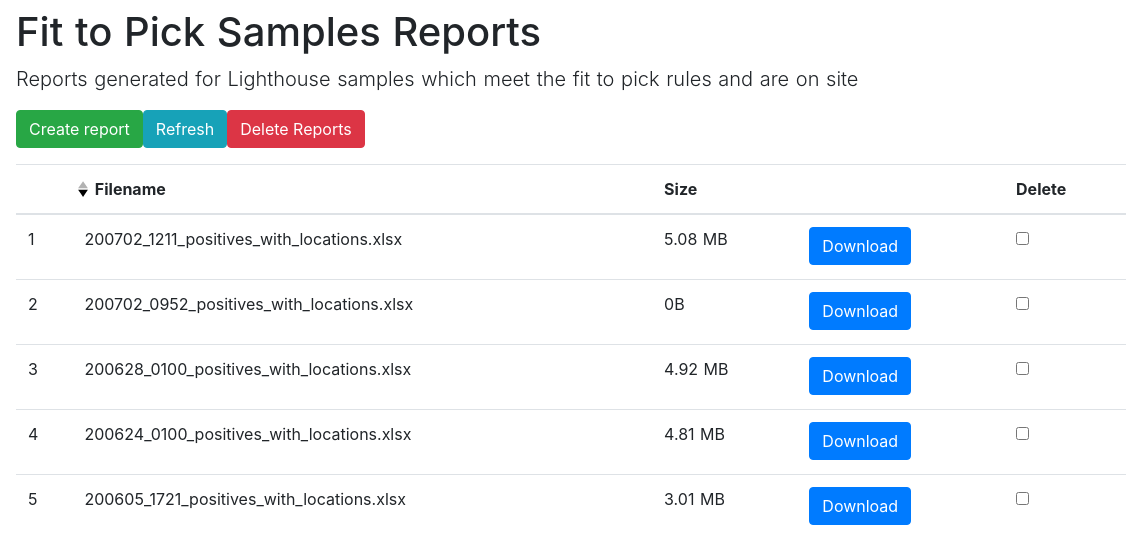
Test case: Index › #deleteReports › when the request is successful
Step 1. Click the checkbox in the row of "5.08 MB" → (1023, 238), box [1016, 232, 1029, 245]
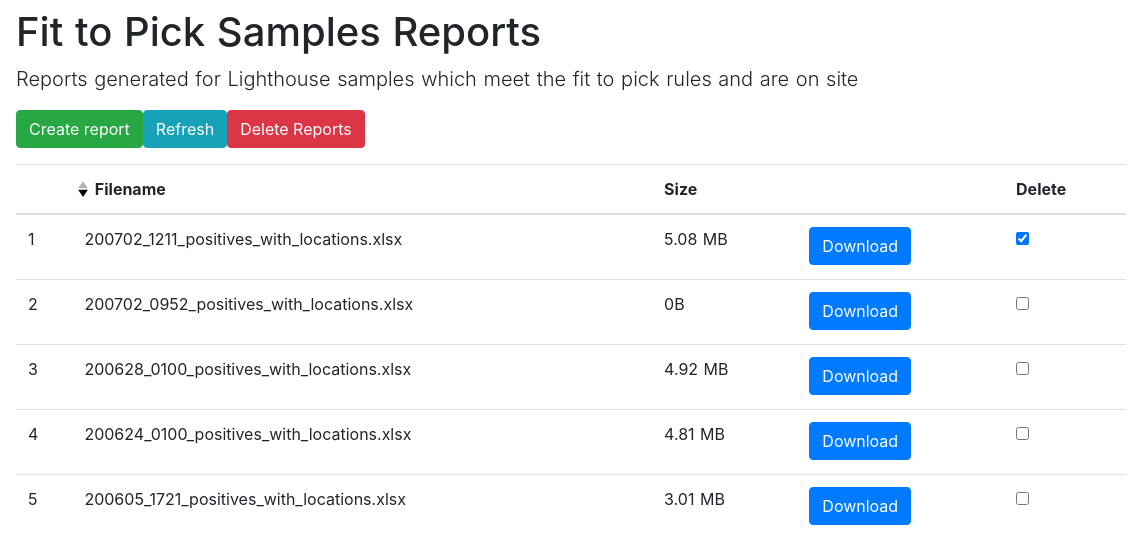
Step 2. Click the checkbox in the row of "0B" → (1023, 304), box [1016, 297, 1029, 310]
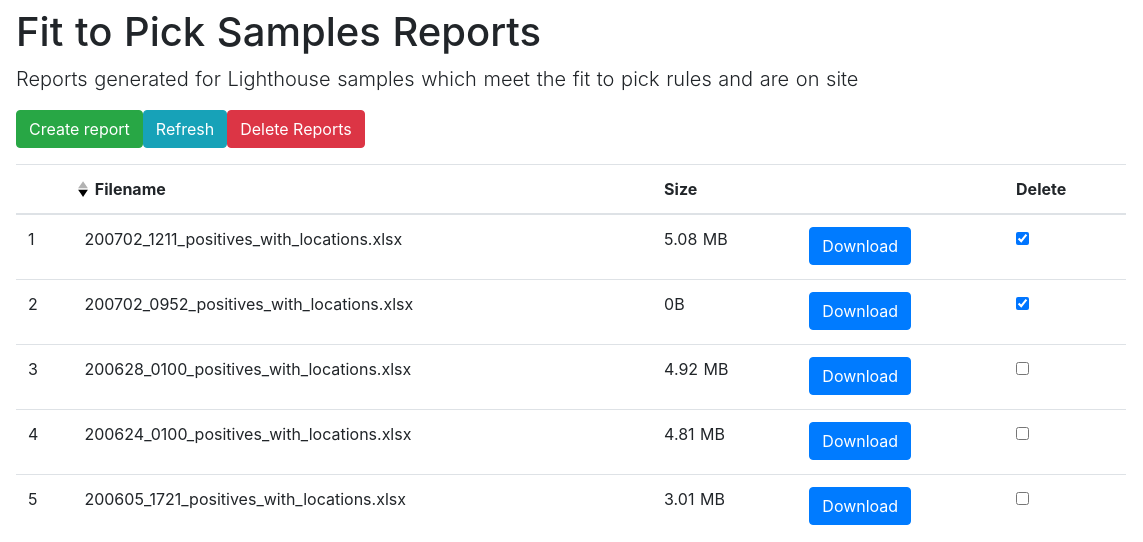
Step 3. Click the checkbox in the row of "4.92 MB" → (1023, 368), box [1016, 362, 1029, 375]
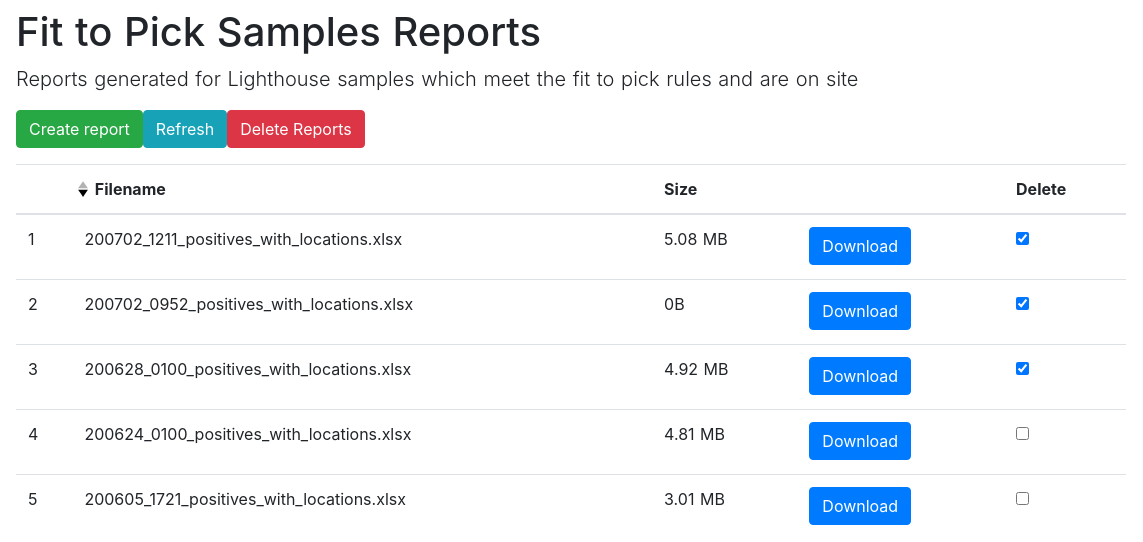
Step 4. Click the button with id "deleteReports" → (296, 129), box [227, 110, 365, 148]
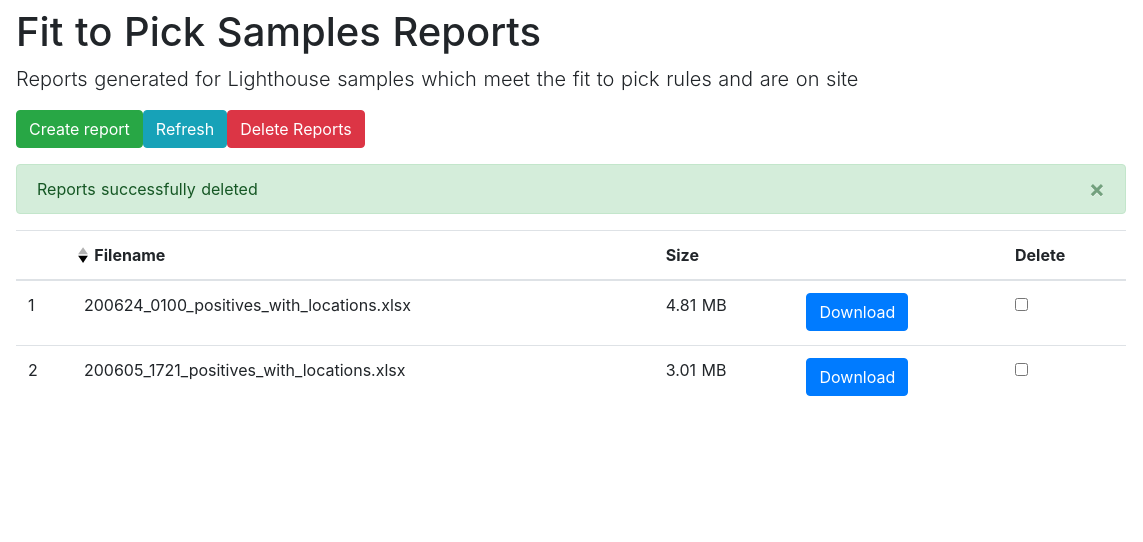
Result: the text "Reports successfully deleted" is shown at [37, 179, 258, 199]
